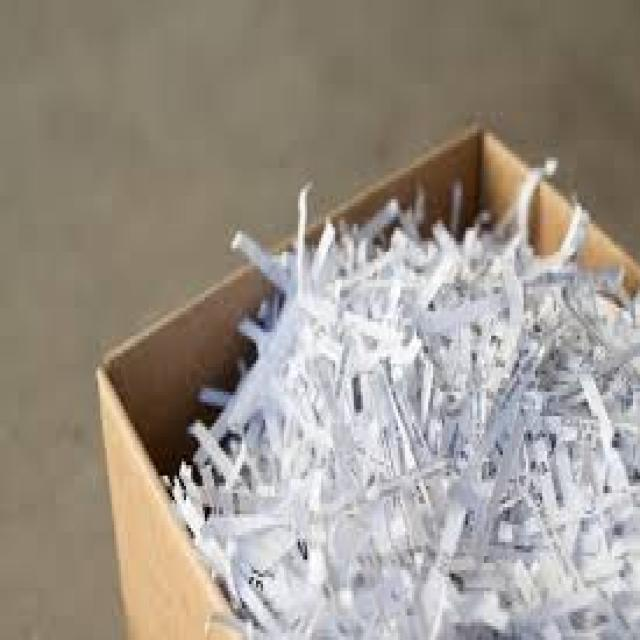cardboard: (93, 119, 638, 636)
paper: (165, 151, 638, 637)
